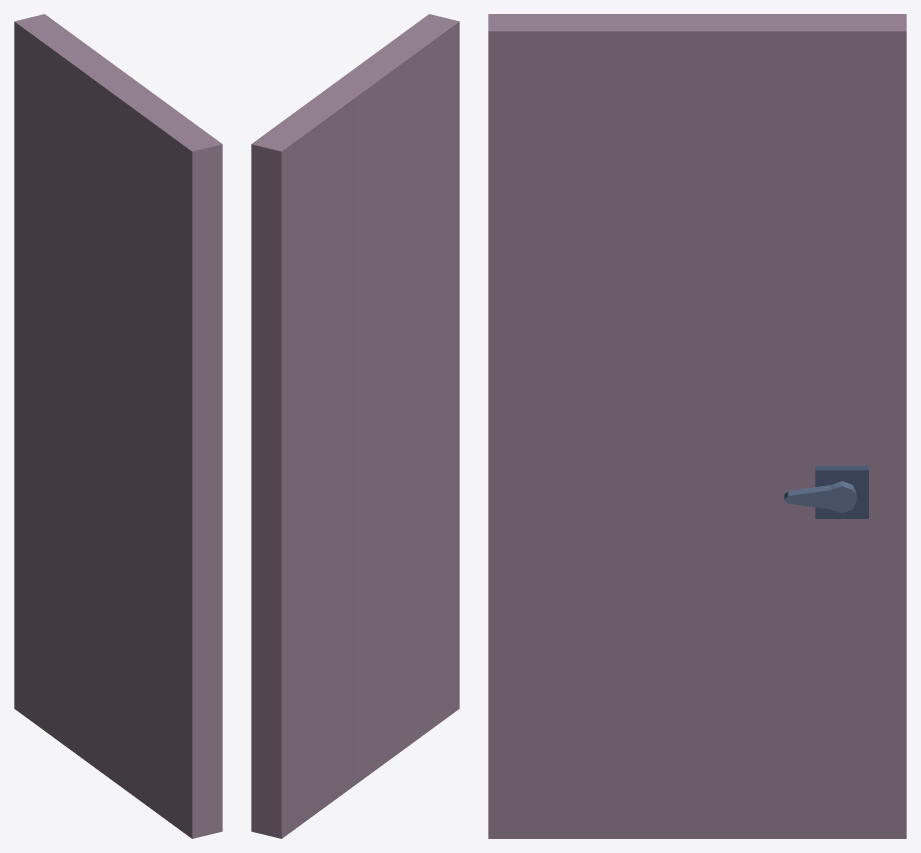
Rendered from _oor.fbx.
3 views of the same model, side by side, from view 1: azimuth 30°, elevation 25°; view 2: azimuth 150°, elevation 25°; view 3: azimuth 270°, elevation 25° (orthographic). The views are drawn at different scales.
Visible parts, largest first — view 1: Door; view 2: Door; view 3: Door, Handle.
Boxes of the visible parts, left/top/right/bottom form: Door: left=14, top=14, right=222, bottom=838; Door: left=251, top=14, right=459, bottom=838; Door: left=488, top=14, right=906, bottom=838; Handle: left=784, top=481, right=857, bottom=513.
Size of the model in its own units: 0.00452 by 0.0623 by 0.0292.
